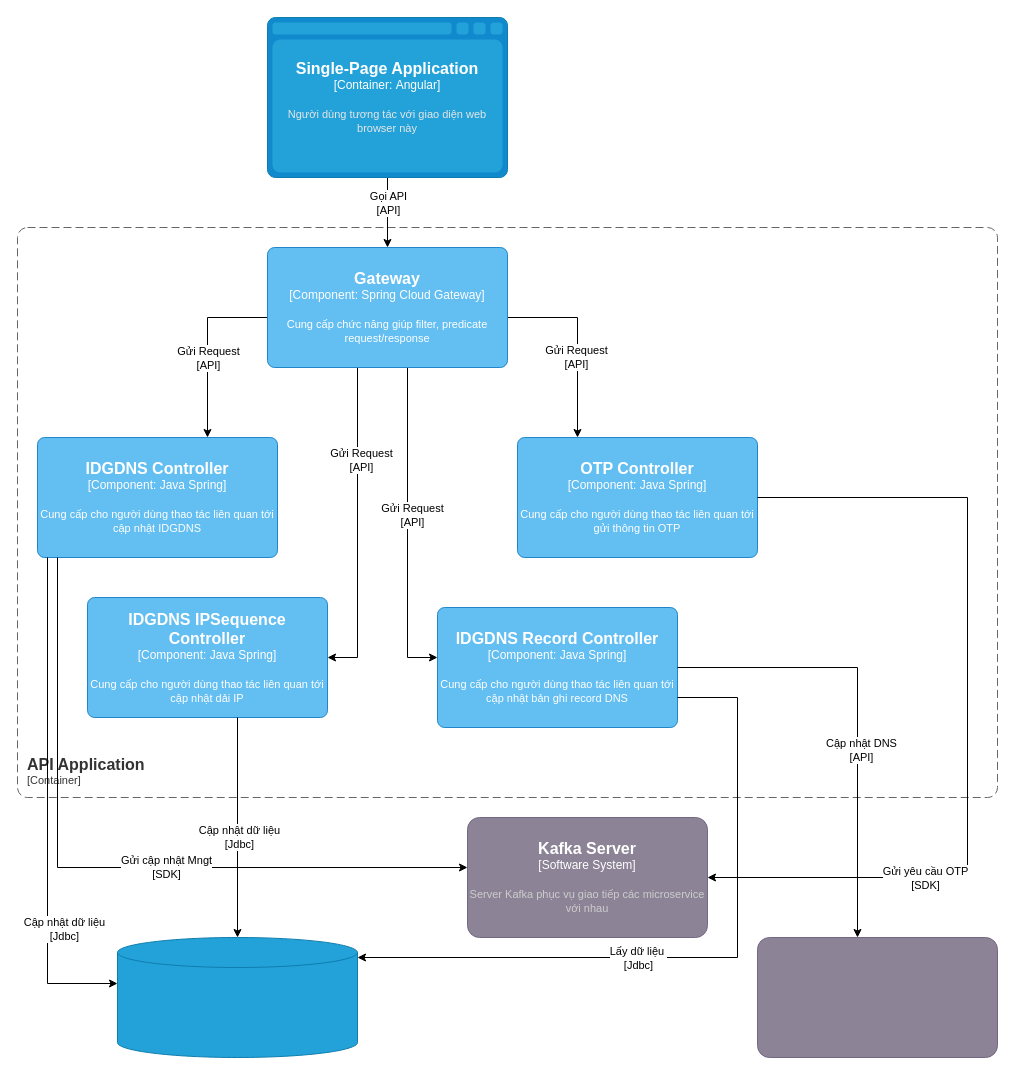
This 1015x1075 diagram has some shape labels left out. Each missing label, with the centre of its shape:
Database [Container: MySQL] MySQL Database Schema: (x=237, y=997)
PowerDNS System [Software System] Hệ thống cập nhật thông tin Domain DNS: (x=877, y=997)
